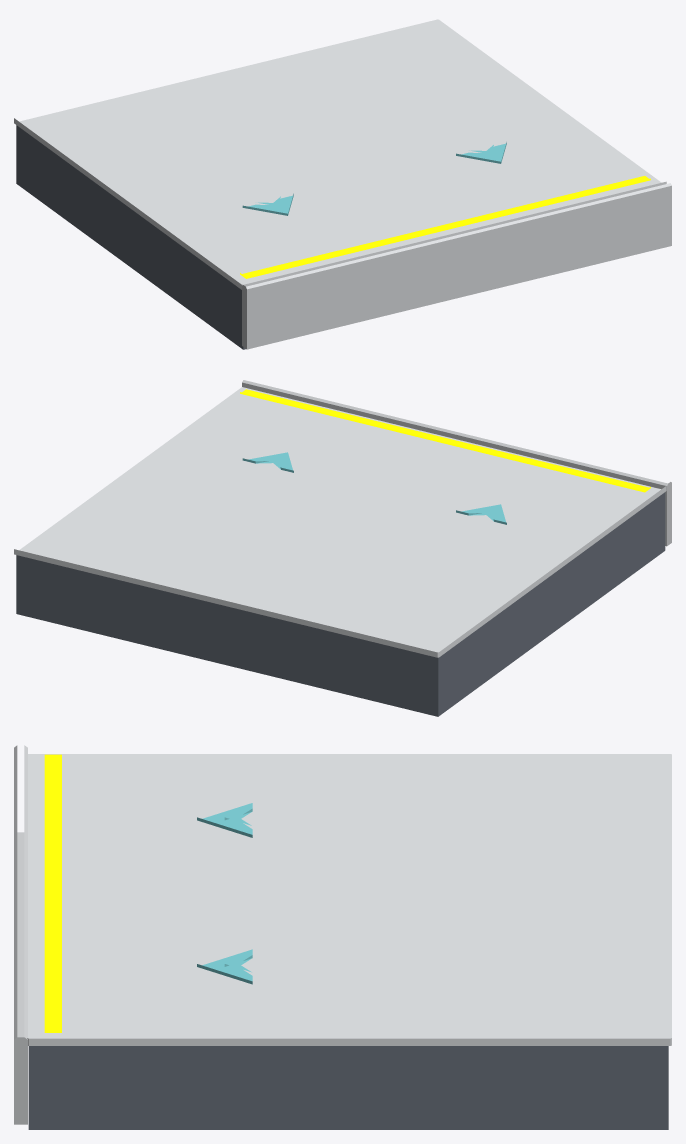
File: ext_tram_platform_kerb_05.glb
3 views of the same model, one above another, from view 1: azimuth 30°, elevation 25°; view 2: azimuth 150°, elevation 25°; view 3: azimuth 270°, elevation 25° (orthographic). The views are drawn at different scales.
Parts seen in each view (by area): view 1: Deck, Nosing, Body, Edge_Light, Chevrons; view 2: Deck, Body, Nosing, Edge_Light, Chevrons; view 3: Deck, Body, Edge_Light, Nosing, Chevrons.
Part boxes in pixels (x1,y1,x2,y2): Deck: (14, 19, 666, 289); Nosing: (242, 183, 671, 349); Body: (16, 125, 245, 349); Edge_Light: (240, 176, 650, 278); Chevrons: (242, 142, 506, 215); Deck: (14, 387, 666, 657); Body: (16, 492, 665, 716); Nosing: (242, 380, 671, 546); Edge_Light: (240, 389, 650, 492); Chevrons: (242, 452, 506, 524); Deck: (27, 754, 671, 1045); Body: (28, 1046, 668, 1129); Edge_Light: (44, 754, 61, 1032); Nosing: (14, 745, 27, 1124); Chevrons: (197, 803, 252, 984).
Size of the model in its own units: 1.99 by 0.3 by 1.9.
